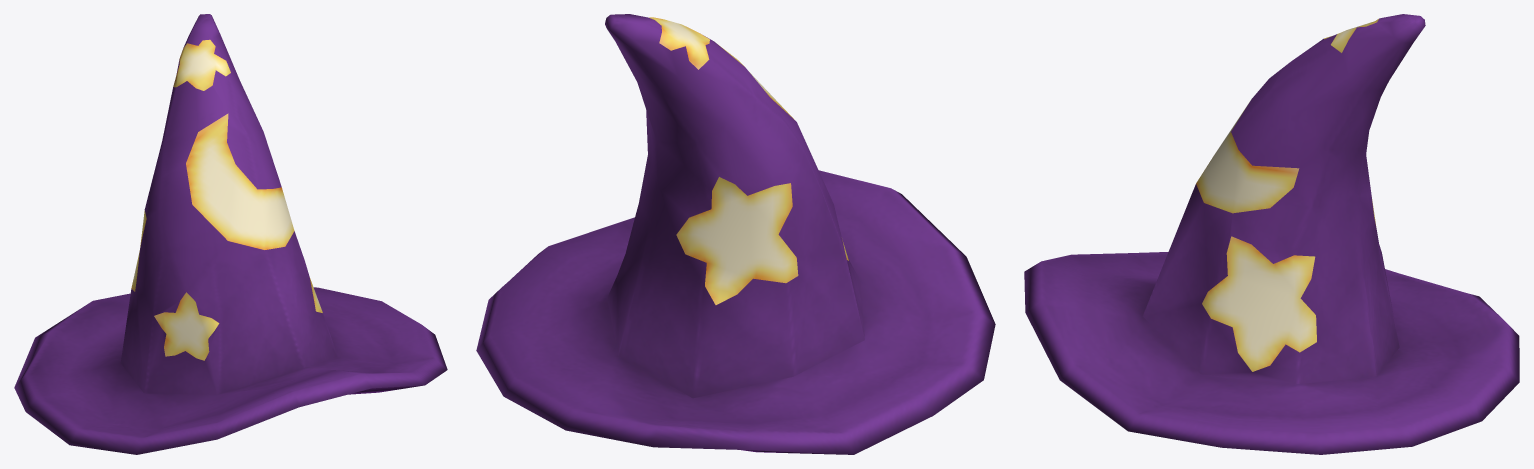
File: hat_magician.fbx
The picture shows the model from 3 angles, left to right: view 1: azimuth 30°, elevation 25°; view 2: azimuth 150°, elevation 25°; view 3: azimuth 270°, elevation 25°; orthographic projection. The views are drawn at different scales.
Parts seen in each view (by area): view 1: hat_magician; view 2: hat_magician; view 3: hat_magician.
Boxes of the visible parts, x1=… form: hat_magician: x1=14, y1=14, x2=447, y2=454; hat_magician: x1=476, y1=14, x2=995, y2=454; hat_magician: x1=1024, y1=14, x2=1519, y2=454.
Size of the model in its own units: 2.21 by 1.88 by 2.18.
